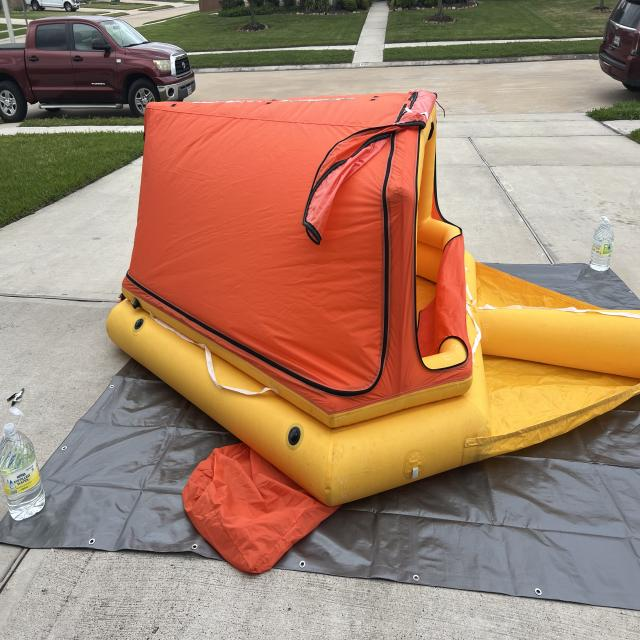Multi-person_life_raft: (106, 87, 640, 574)
